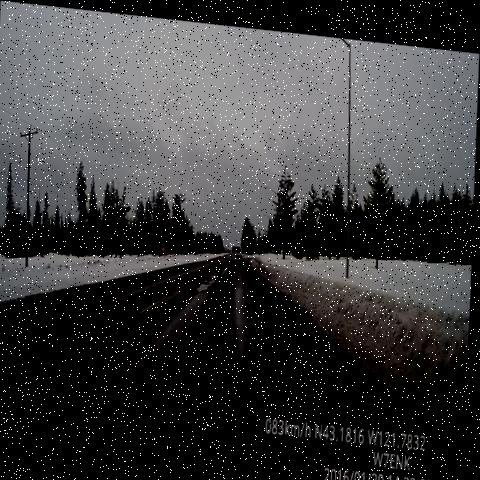pothole: (196, 263, 223, 294), (219, 251, 234, 268)
